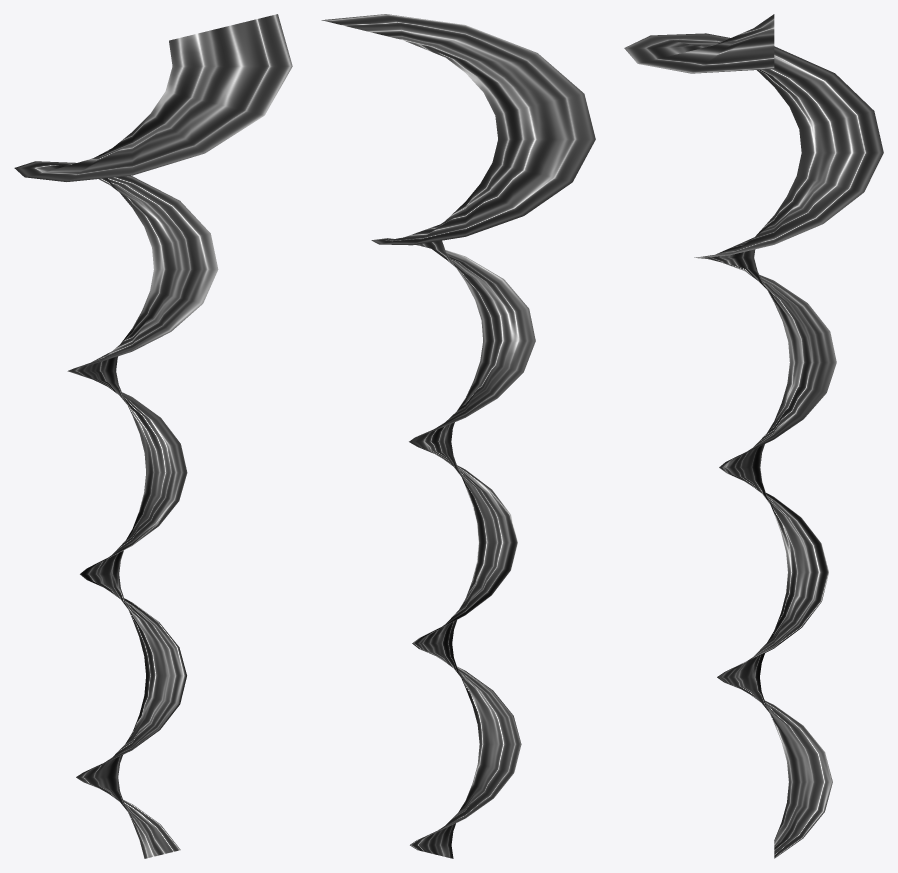
Rendered from eff_Twist01.fbx.
The picture shows the model from 3 angles, left to right: view 1: azimuth 30°, elevation 25°; view 2: azimuth 150°, elevation 25°; view 3: azimuth 270°, elevation 25°; orthographic projection. The views are drawn at different scales.
Visible parts, largest first — view 1: eff_Twist01_msh; view 2: eff_Twist01_msh; view 3: eff_Twist01_msh.
Boxes of the visible parts, left/top/right/bottom form: eff_Twist01_msh: left=14, top=14, right=292, bottom=858; eff_Twist01_msh: left=321, top=14, right=595, bottom=858; eff_Twist01_msh: left=624, top=14, right=883, bottom=858.
Size of the model in its own units: 5.22 by 16 by 4.49.
